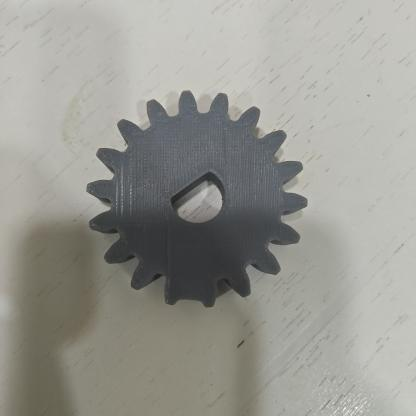defect: (155, 163, 224, 216), (162, 269, 223, 317)
gear: (87, 91, 307, 307)
